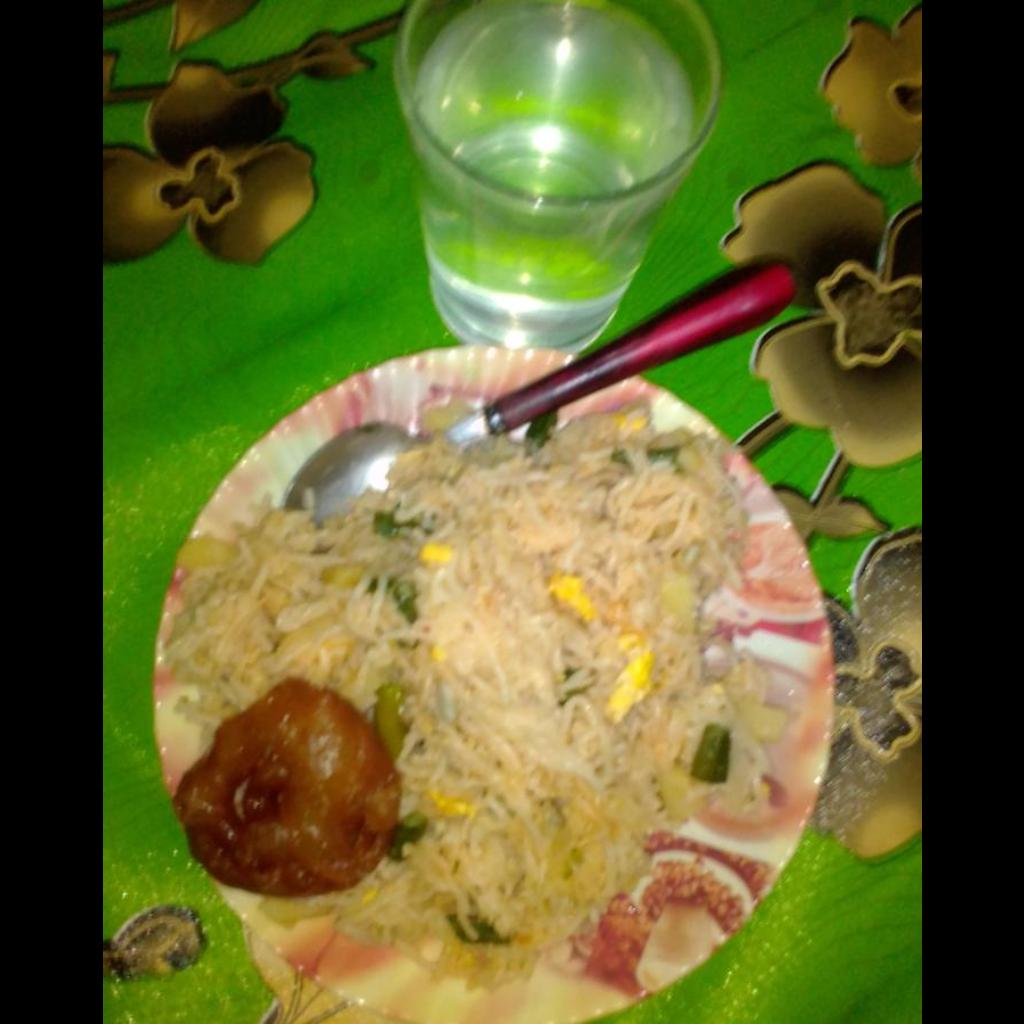noodles: (176, 398, 752, 985)
sweets: (176, 681, 408, 893)
